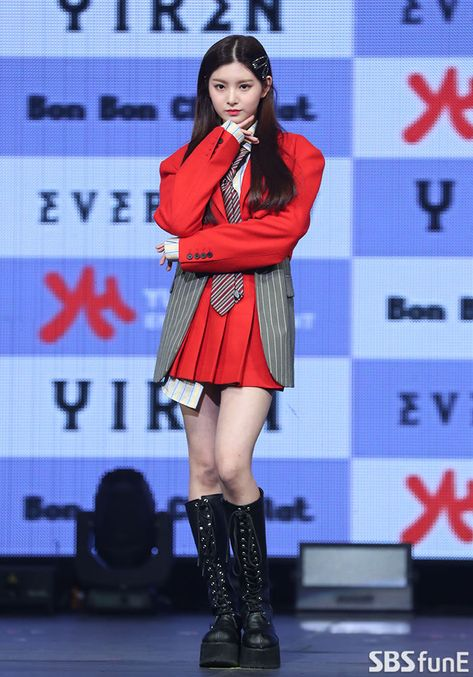person: (134, 29, 346, 672)
